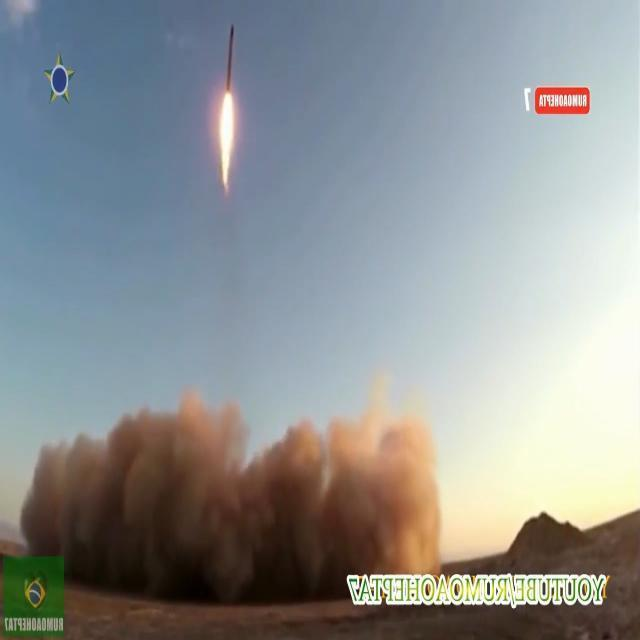missile: (220, 21, 237, 96)
